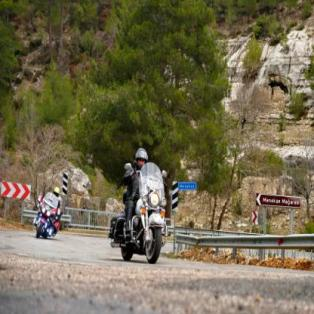Motocicleta: (103, 156, 174, 270), (27, 181, 74, 254)
